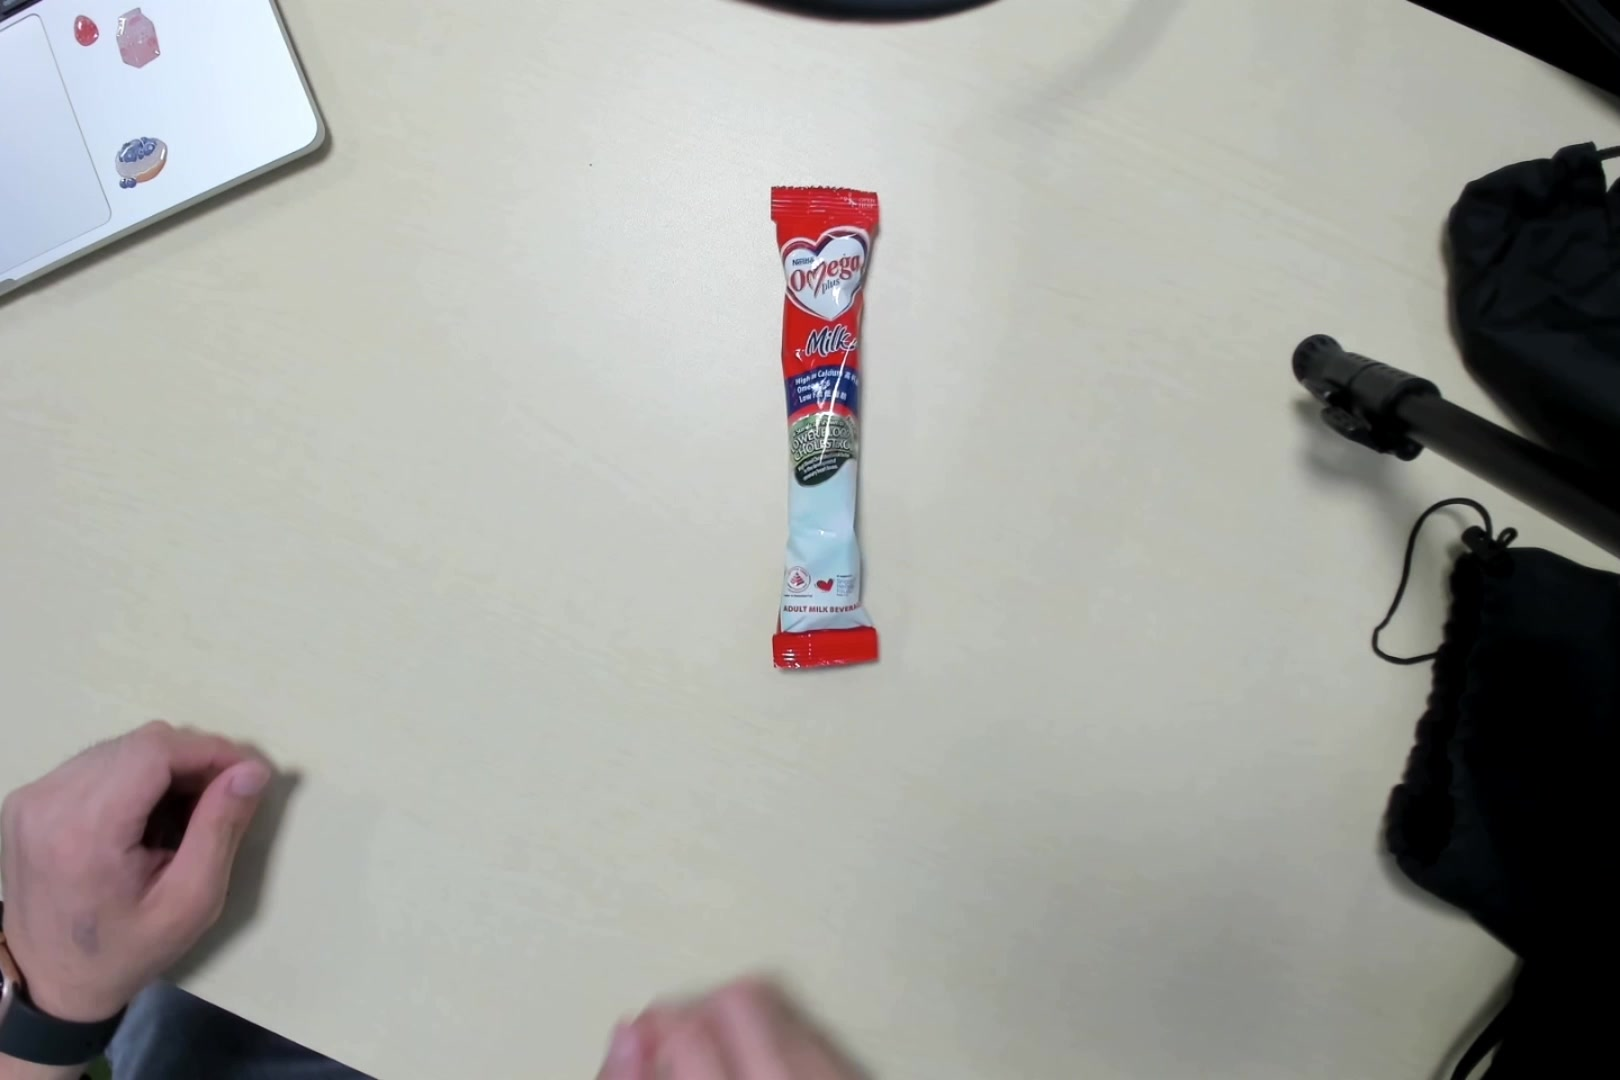MilkPowder_0-99g_Halal_NonHealthy: (767, 180, 874, 662)
